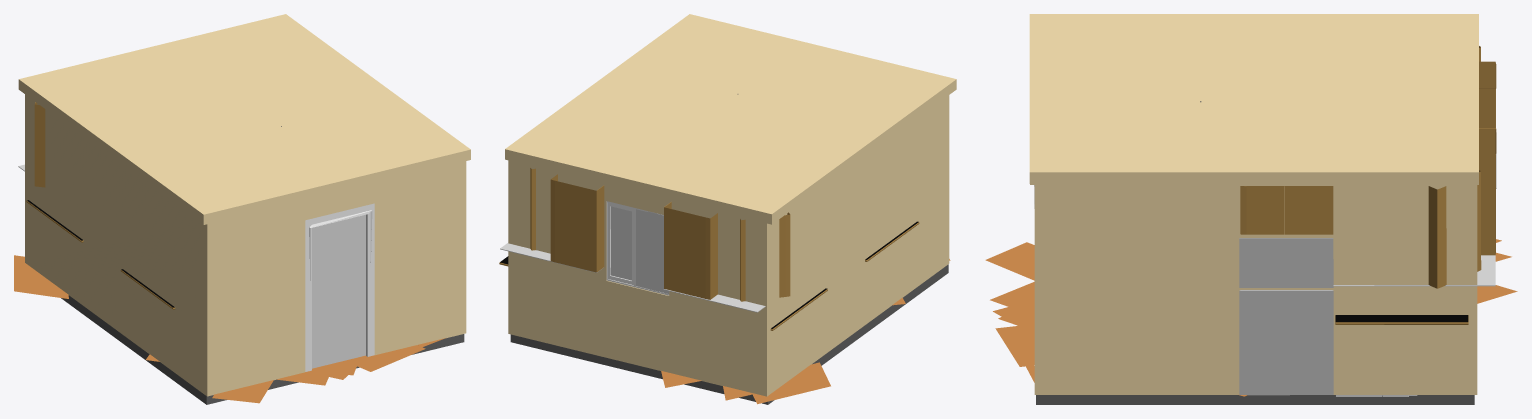
The model's file is FloorPlan19_physics.fbx.
The picture shows the model from 3 angles, left to right: view 1: azimuth 30°, elevation 25°; view 2: azimuth 150°, elevation 25°; view 3: azimuth 270°, elevation 25°; orthographic projection. The views are drawn at different scales.
Visible parts, largest first — view 1: Room.036, Ceiling, Door, DoorFrame, Floor1, Decals.022, Decals.023, Decals.021, Cube.409; view 2: Room.036, Ceiling, Cube.409, Cube.421, WindowPane, Floor1, Decals.021, WindowFrame; view 3: Ceiling, Room.036, Cube.429, Cube.421, Floor1, Decals.022, Decals.023, Cube.409, PS_19_Countertop_2, Decals.021.
Boxes of the visible parts, box(x1,y1,x2,y2) form: Room.036: box(25, 94, 466, 396); Ceiling: box(18, 14, 470, 224); Door: box(312, 214, 365, 368); DoorFrame: box(305, 203, 374, 371); Floor1: box(61, 295, 464, 404); Decals.022: box(307, 338, 445, 379); Decals.023: box(146, 354, 355, 403); Decals.021: box(14, 255, 68, 298); Cube.409: box(18, 102, 45, 187); Room.036: box(508, 95, 949, 396); Ceiling: box(505, 14, 956, 224); Cube.409: box(663, 202, 790, 312); Cube.421: box(500, 167, 604, 272); WindowPane: box(610, 206, 668, 293); Floor1: box(510, 264, 948, 404); Decals.021: box(661, 362, 830, 404); WindowFrame: box(606, 201, 669, 295); Ceiling: box(1029, 14, 1478, 184); Room.036: box(1034, 185, 1477, 394); Cube.429: box(1239, 238, 1333, 395); Cube.421: box(1240, 128, 1496, 288); Floor1: box(1036, 395, 1474, 404); Decals.022: box(993, 300, 1247, 396); Decals.023: box(985, 242, 1034, 324); Cube.409: box(1479, 46, 1496, 188); PS_19_Countertop_2: box(1335, 315, 1468, 322); Decals.021: box(1477, 239, 1517, 303).
Bounding box in the file's own units: 446 × 267 × 548.
